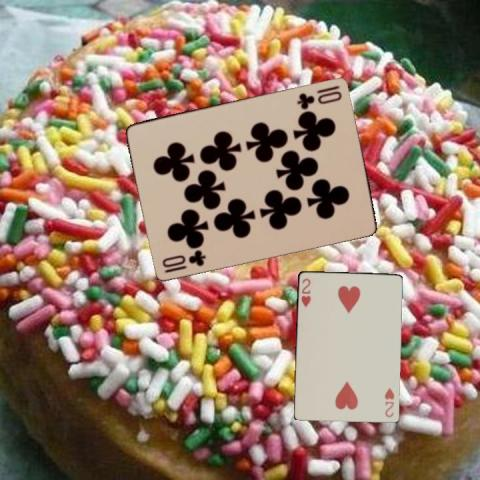10c: (294, 82, 343, 110), (159, 247, 208, 274)
2h: (298, 276, 312, 308), (382, 385, 395, 418)
